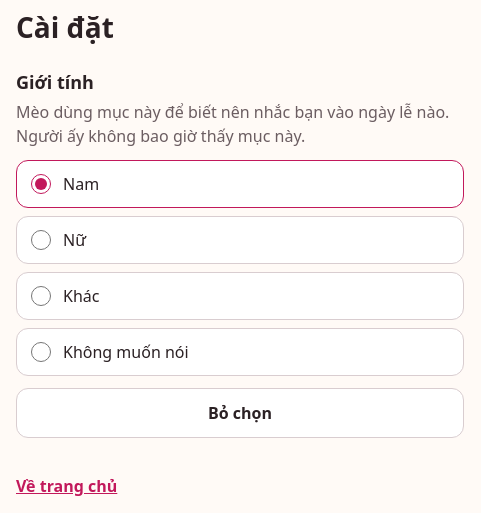
Test: SettingsPage Bỏ chọn sends null
Expected: the radio button labelled "Nam" is checked, [31,174,51,194]
Click the button "Bỏ chọn": (240, 413) [16,388,464,438]
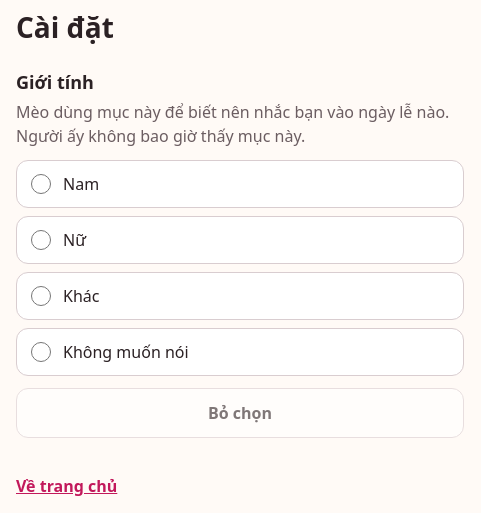
Expected: the radio button labelled "Nam" is enabled, [31,174,51,194]
Result: the radio button labelled "Nam" is not checked at [31,174,51,194]
Result: the button "Bỏ chọn" is disabled at [16,388,464,438]
